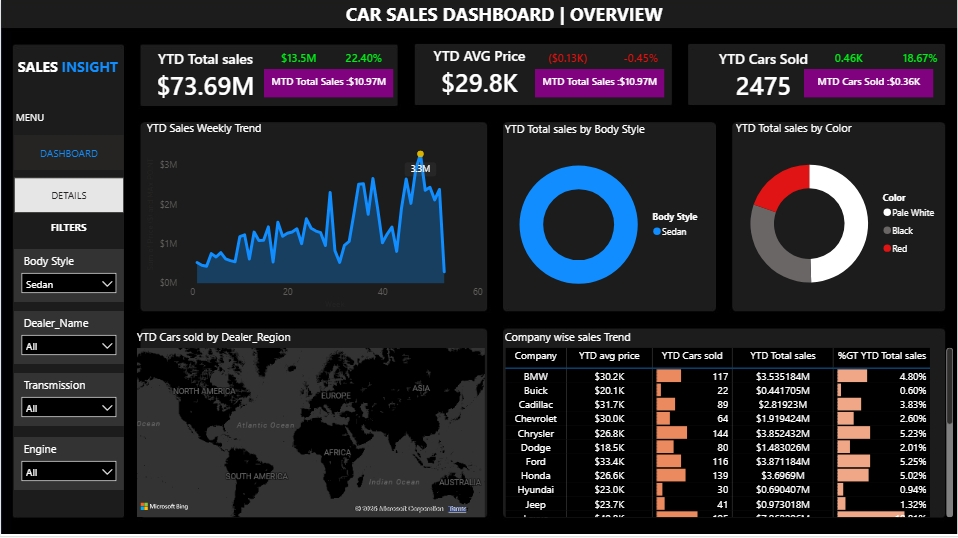

The dashboard page shown, as its layout file describes it:
{"tool":"powerbi","page":{"name":"DASHBOARD","canvas":[1280,720],"ordinal":0},"visuals":[{"type":"card","title":"YTD Total sales","fields":{"Values":["car_data.YTD Total sales"]},"box":[176.4,68,193.7,72.3],"z":0},{"type":"card","fields":{"Values":["car_data.Sales Difference"]},"box":[331.1,63.6,135.9,36.1],"z":1000},{"type":"card","fields":{"Values":["car_data.YOY Sales growth"]},"box":[426.5,63.6,117.1,36.1],"z":2000},{"type":"card","fields":{"Values":["car_data.MTD KPI"]},"box":[351.3,95.4,173.5,37.6],"z":3000},{"type":"card","title":"YTD AVG Price","fields":{"Values":["car_data.YTD avg price"]},"box":[543.6,63.6,193.7,72.3],"z":4000},{"type":"card","fields":{"Values":["car_data.Avg price difference"]},"box":[691.1,63.6,135.9,36.1],"z":5000},{"type":"card","fields":{"Values":["car_data.Yoy avg price growth"]},"box":[788,63.6,135.9,36.1],"z":6000},{"type":"card","fields":{"Values":["car_data.MTD KPI"]},"box":[714.2,95.4,173.5,37.6],"z":7000},{"type":"card","title":"YTD Cars Sold","fields":{"Values":["car_data.YTD Cars sold"]},"box":[923.9,68,193.7,72.3],"z":8000},{"type":"card","fields":{"Values":["car_data.Cars sold diffe"]},"box":[1067,63.6,135.9,36.1],"z":9000},{"type":"card","fields":{"Values":["car_data.YOY car sold growth"]},"box":[1179.8,63.6,99.8,36.1],"z":10000},{"type":"card","fields":{"Values":["car_data.MTD CARS SOLD KPI"]},"box":[1074.2,95.4,173.5,37.6],"z":11000},{"type":"areaChart","title":"YTD Sales Weekly Trend","fields":{"Category":["calender table.Week"],"Y":["Sum(car_data.Price ($))","car_data.MAx POINT"]},"box":[189.4,163.4,462.7,257.3],"z":12000},{"type":"donutChart","fields":{"Category":["car_data.Body Style"],"Y":["car_data.YTD Total sales"]},"box":[669.4,164.8,284.8,257.3],"z":13000},{"type":"donutChart","fields":{"Y":["car_data.YTD Total sales"],"Category":["car_data.Color"]},"box":[978.8,163.4,284.8,257.3],"z":14000},{"type":"map","fields":{"Category":["car_data.Dealer_Region"],"Size":["car_data.YTD Cars sold"]},"box":[176.4,442.4,475.7,257.3],"z":15000},{"type":"tableEx","title":"Company wise sales Trend","fields":{"Values":["car_data.Company","car_data.YTD avg price","car_data.YTD Cars sold","car_data.YTD Total sales1","car_data.YTD Total sales"]},"box":[669.4,442.4,610.1,257.3],"z":16000},{"type":"textbox","box":[456.9,0,467,46.3],"z":17000},{"type":"slicer","fields":{"Values":["car_data.Body Style"]},"box":[17.3,335.4,147.5,70.8],"z":18000},{"type":"slicer","fields":{"Values":["car_data.Dealer_Name"]},"box":[17.3,419.3,147.5,70.8],"z":19000},{"type":"slicer","fields":{"Values":["car_data.Transmission"]},"box":[17.3,501.7,147.5,70.8],"z":20000},{"type":"slicer","fields":{"Values":["car_data.Engine"]},"box":[17.3,587,147.5,70.8],"z":21000},{"type":"textbox","box":[15.9,293.5,148.9,46.3],"z":22000},{"type":"textbox","box":[17.3,73.7,159,43.4],"z":23000},{"type":"textbox","box":[14.5,146,161.9,36.1],"z":24000},{"type":"pageNavigator","box":[17.3,183.6,147.5,105.5],"z":25000}]}

Visuals, with their boxes in screenshot pixels (x1, y1, x2, y2), scaled from the page's 1280x720 canvas onto the 958x538 screenshot:
"YTD Total sales" card: {"x1": 132, "y1": 51, "x2": 277, "y2": 105}
card - car_data.Sales Difference: {"x1": 248, "y1": 48, "x2": 350, "y2": 74}
card - car_data.YOY Sales growth: {"x1": 319, "y1": 48, "x2": 407, "y2": 74}
card - car_data.MTD KPI: {"x1": 263, "y1": 71, "x2": 393, "y2": 99}
"YTD AVG Price" card: {"x1": 407, "y1": 48, "x2": 552, "y2": 102}
card - car_data.Avg price difference: {"x1": 517, "y1": 48, "x2": 619, "y2": 74}
card - car_data.Yoy avg price growth: {"x1": 590, "y1": 48, "x2": 691, "y2": 74}
card - car_data.MTD KPI: {"x1": 535, "y1": 71, "x2": 664, "y2": 99}
"YTD Cars Sold" card: {"x1": 691, "y1": 51, "x2": 836, "y2": 105}
card - car_data.Cars sold diffe: {"x1": 799, "y1": 48, "x2": 900, "y2": 74}
card - car_data.YOY car sold growth: {"x1": 883, "y1": 48, "x2": 957, "y2": 74}
card - car_data.MTD CARS SOLD KPI: {"x1": 804, "y1": 71, "x2": 934, "y2": 99}
"YTD Sales Weekly Trend" areaChart: {"x1": 142, "y1": 122, "x2": 488, "y2": 314}
donutChart - car_data.Body Style x car_data.YTD Total sales: {"x1": 501, "y1": 123, "x2": 714, "y2": 315}
donutChart - car_data.YTD Total sales x car_data.Color: {"x1": 733, "y1": 122, "x2": 946, "y2": 314}
map - car_data.Dealer_Region x car_data.YTD Cars sold: {"x1": 132, "y1": 331, "x2": 488, "y2": 523}
"Company wise sales Trend" tableEx: {"x1": 501, "y1": 331, "x2": 957, "y2": 523}
textbox: {"x1": 342, "y1": 0, "x2": 691, "y2": 35}
slicer - car_data.Body Style: {"x1": 13, "y1": 251, "x2": 123, "y2": 304}
slicer - car_data.Dealer_Name: {"x1": 13, "y1": 313, "x2": 123, "y2": 366}
slicer - car_data.Transmission: {"x1": 13, "y1": 375, "x2": 123, "y2": 428}
slicer - car_data.Engine: {"x1": 13, "y1": 439, "x2": 123, "y2": 492}
textbox: {"x1": 12, "y1": 219, "x2": 123, "y2": 254}
textbox: {"x1": 13, "y1": 55, "x2": 132, "y2": 87}
textbox: {"x1": 11, "y1": 109, "x2": 132, "y2": 136}
pageNavigator: {"x1": 13, "y1": 137, "x2": 123, "y2": 216}
